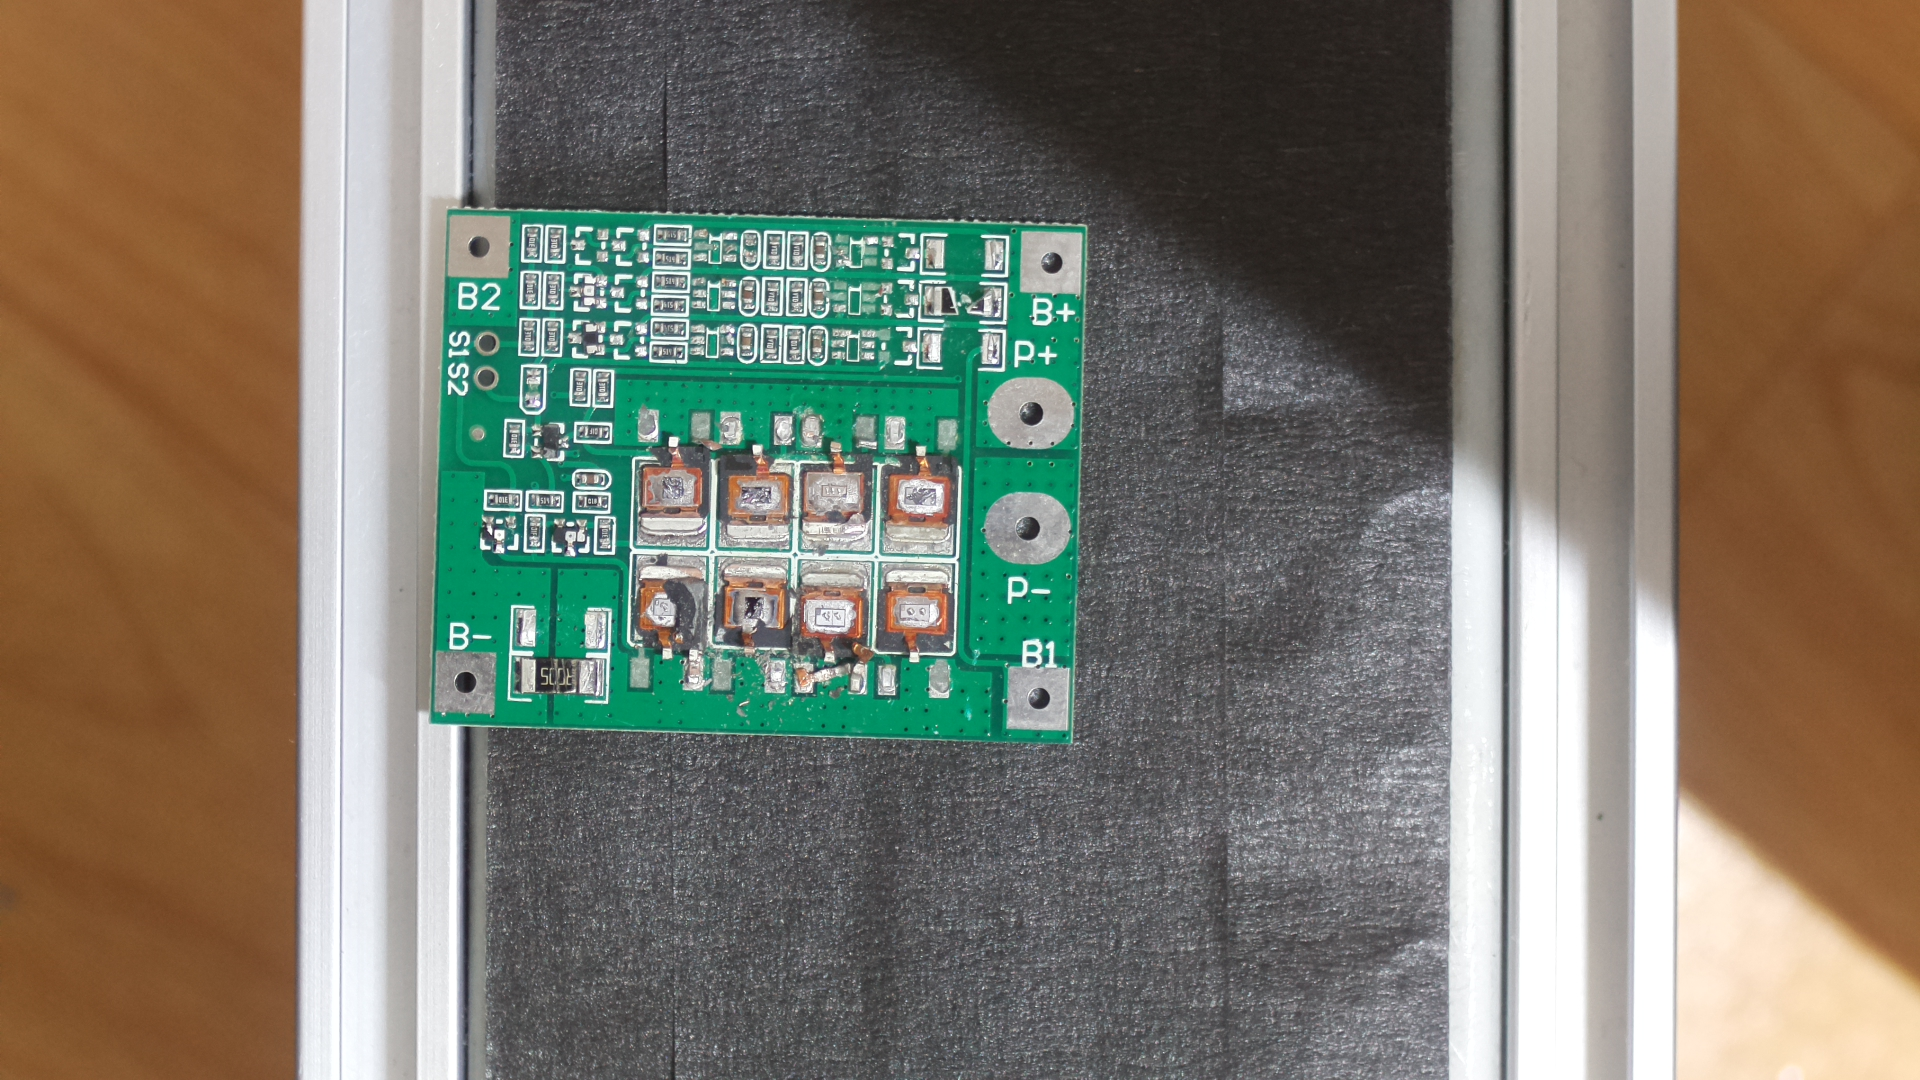C_Missing_part: (423, 183, 1104, 760)
